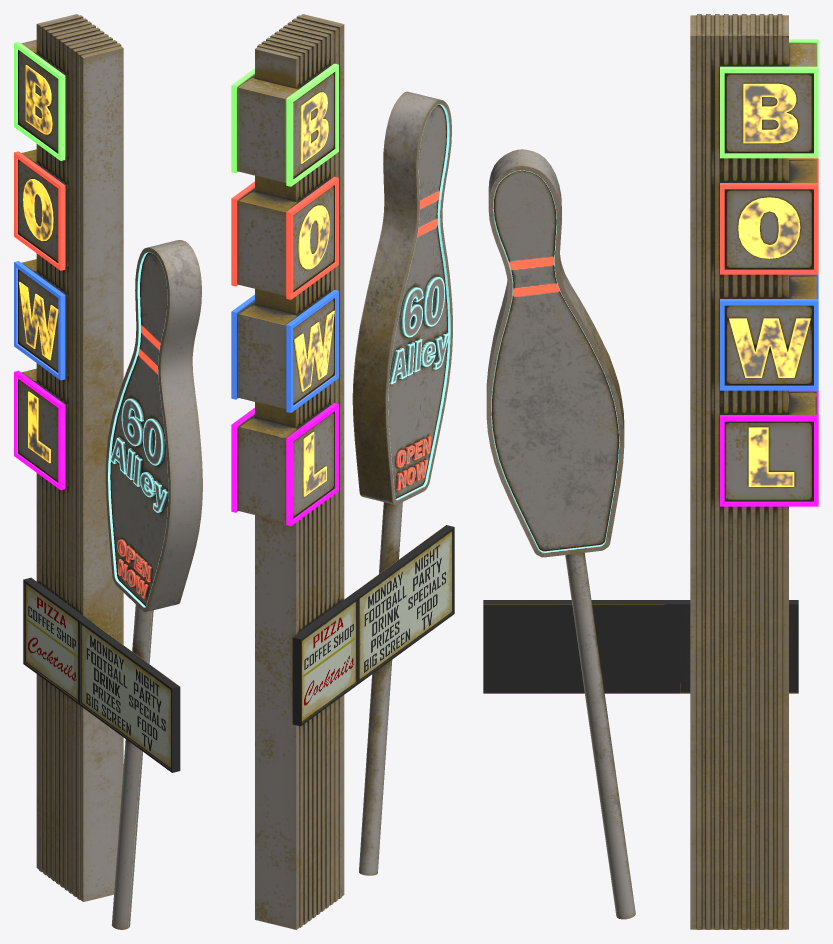
The model's file is SM_BowlingSignOut.fbx.
The picture shows the model from 3 angles, left to right: view 1: azimuth 30°, elevation 25°; view 2: azimuth 150°, elevation 25°; view 3: azimuth 270°, elevation 25°; orthographic projection. The views are drawn at different scales.
Visible parts, largest first — view 1: SM_BowlingSignOut_LOD0; view 2: SM_BowlingSignOut_LOD0; view 3: SM_BowlingSignOut_LOD0.
Part boxes in pixels (bbox=[...]): SM_BowlingSignOut_LOD0: bbox=[14, 14, 202, 929]; SM_BowlingSignOut_LOD0: bbox=[231, 14, 454, 929]; SM_BowlingSignOut_LOD0: bbox=[483, 14, 818, 929].
Size of the model in its own units: 72.71 by 340 by 1006.
2 materials, 2 textured.
